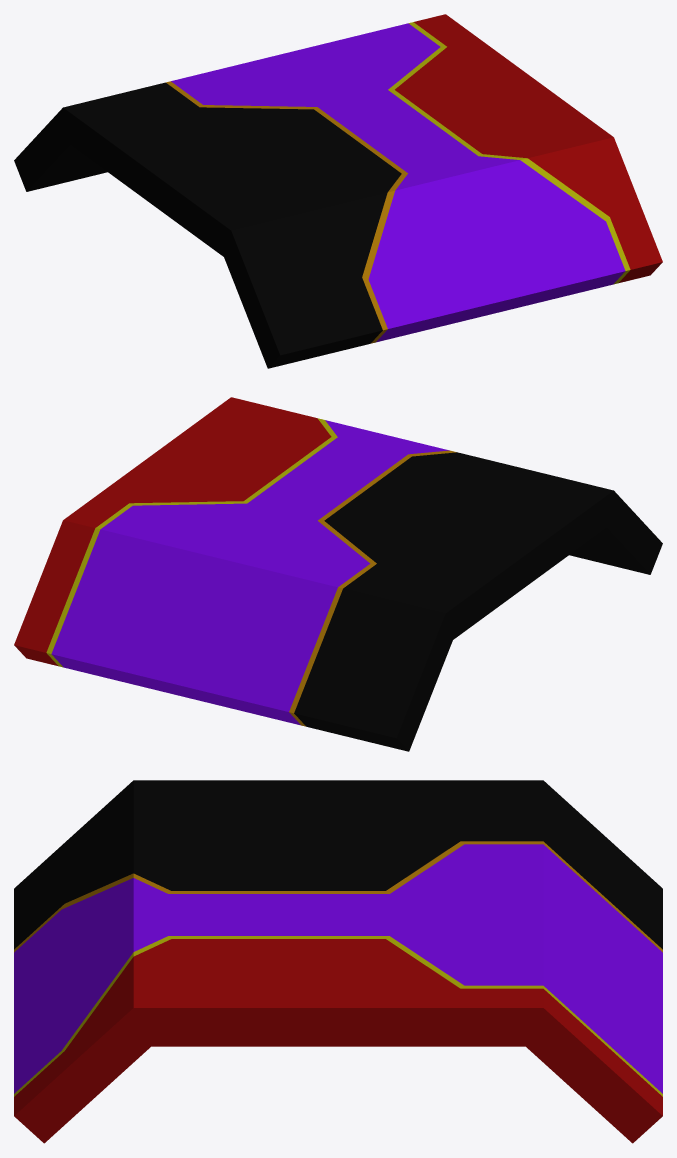
The model's file is panelbentmultioffset.fbx.
The picture shows the model from 3 angles, top to bottom: view 1: azimuth 30°, elevation 25°; view 2: azimuth 150°, elevation 25°; view 3: azimuth 270°, elevation 25°; orthographic projection. The views are drawn at different scales.
Visible parts, largest first — view 1: obj1.004; view 2: obj1.004; view 3: obj1.004.
Part boxes in pixels (<box>): obj1.004: <box>14,14,662,368</box>; obj1.004: <box>14,397,662,751</box>; obj1.004: <box>14,780,662,1143</box>.
Bounding box in the file's own units: 126 × 35 × 152.
